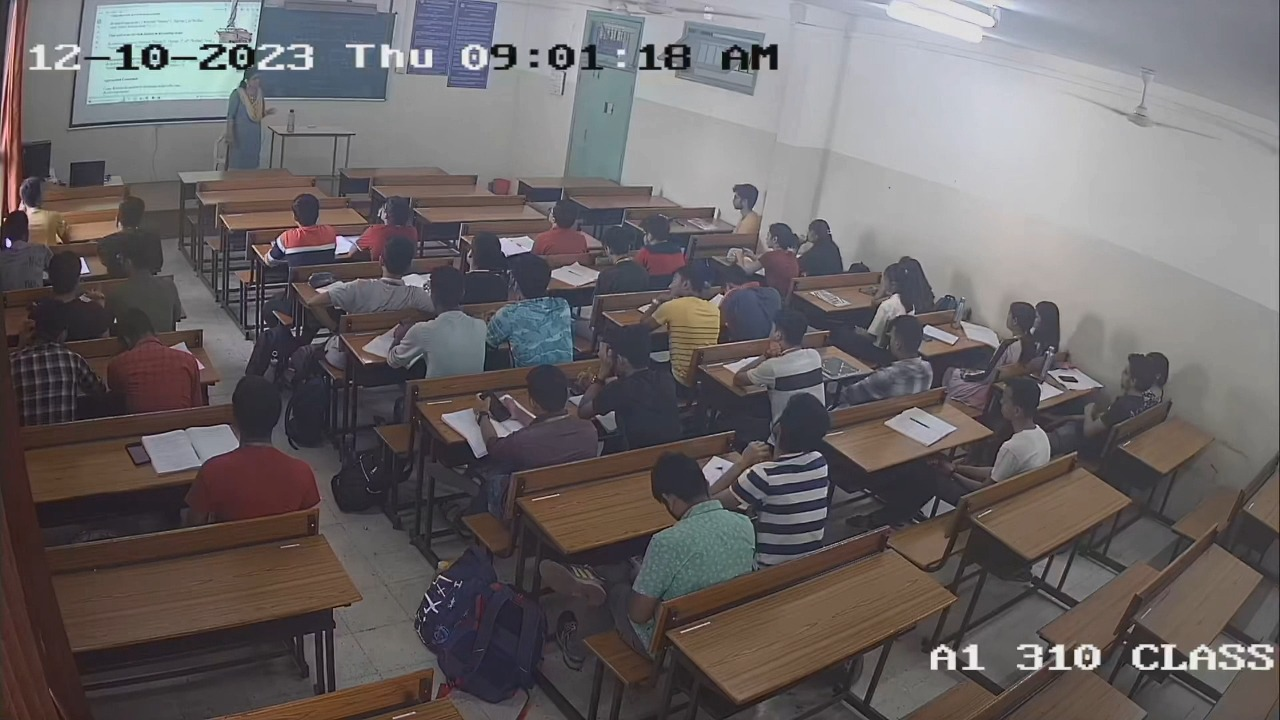cell-phones: (478, 387, 512, 423), (125, 440, 152, 467), (558, 377, 588, 397), (1058, 374, 1080, 384)
person: (183, 374, 322, 520), (488, 363, 600, 480), (585, 324, 685, 450), (1078, 353, 1152, 440)
